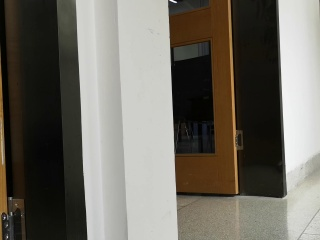room: (164, 2, 293, 198), (1, 2, 97, 240)
